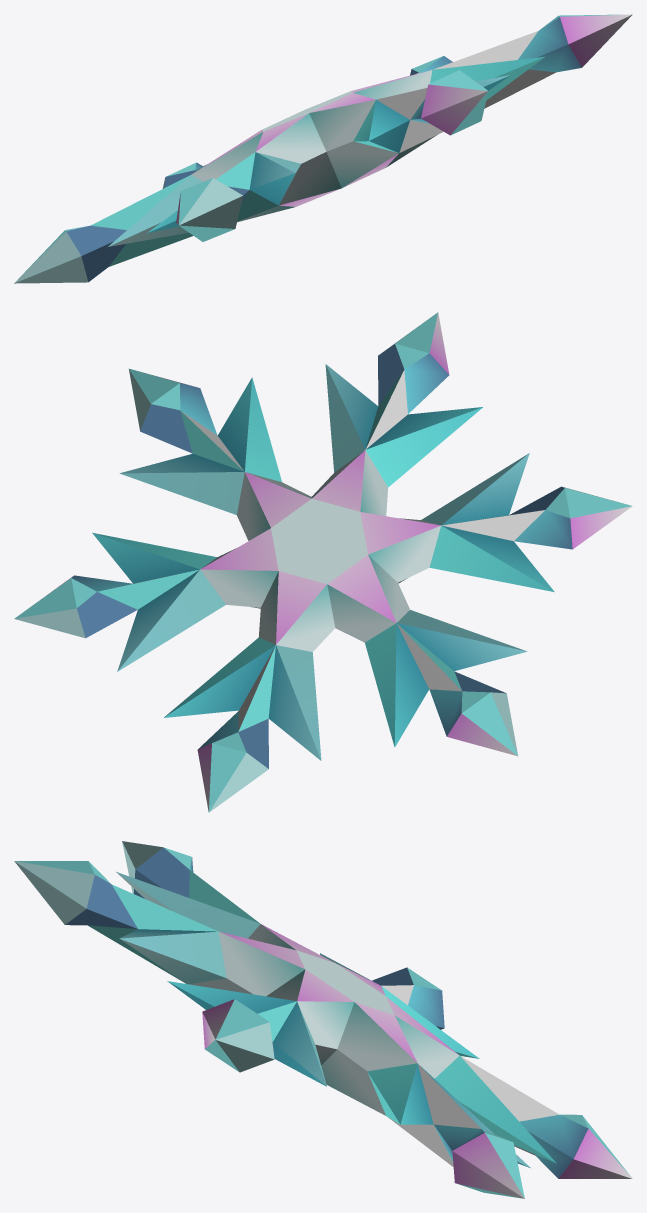
File: snowflake@FrozenSnowflake.fbx
3 renders of one model, top to bottom at view 1: azimuth 30°, elevation 25°; view 2: azimuth 150°, elevation 25°; view 3: azimuth 270°, elevation 25°, orthographic. The views are drawn at different scales.
Parts seen in each view (by area): view 1: snowflake:FrozenSnowflake; view 2: snowflake:FrozenSnowflake; view 3: snowflake:FrozenSnowflake.
Part boxes in pixels (left/top/right/bottom): snowflake:FrozenSnowflake: left=14, top=14, right=632, bottom=283; snowflake:FrozenSnowflake: left=14, top=312, right=632, bottom=812; snowflake:FrozenSnowflake: left=14, top=841, right=632, bottom=1198.
Size of the model in its own units: 22.59 by 13.17 by 21.72.
